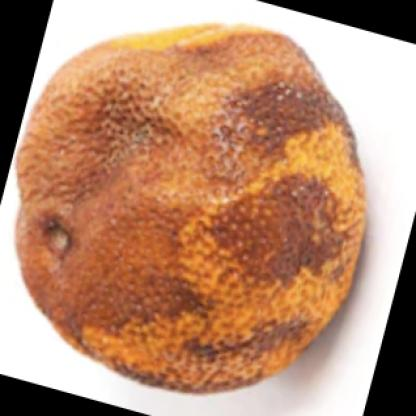rotten: (13, 20, 367, 395)
